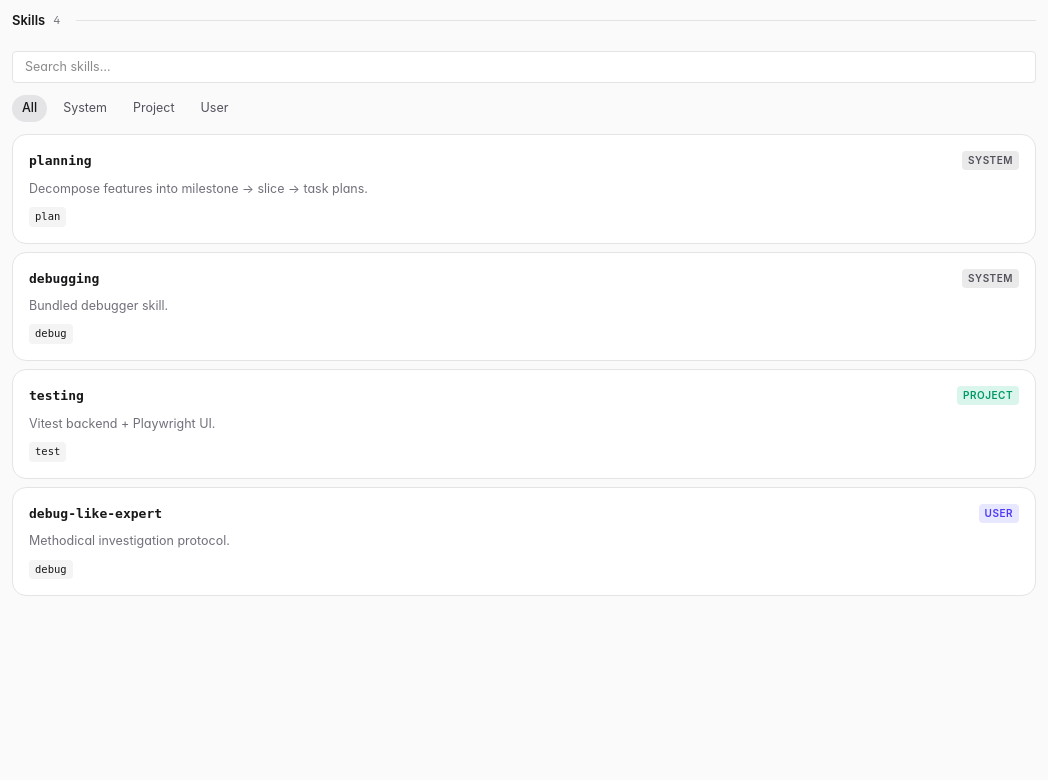
SkillsPane — scope chip filtering › clicking User narrows the list to user-scoped only
Click the button with test id "skills-scope-chip-user" at (215, 109), box [191,95,238,122]
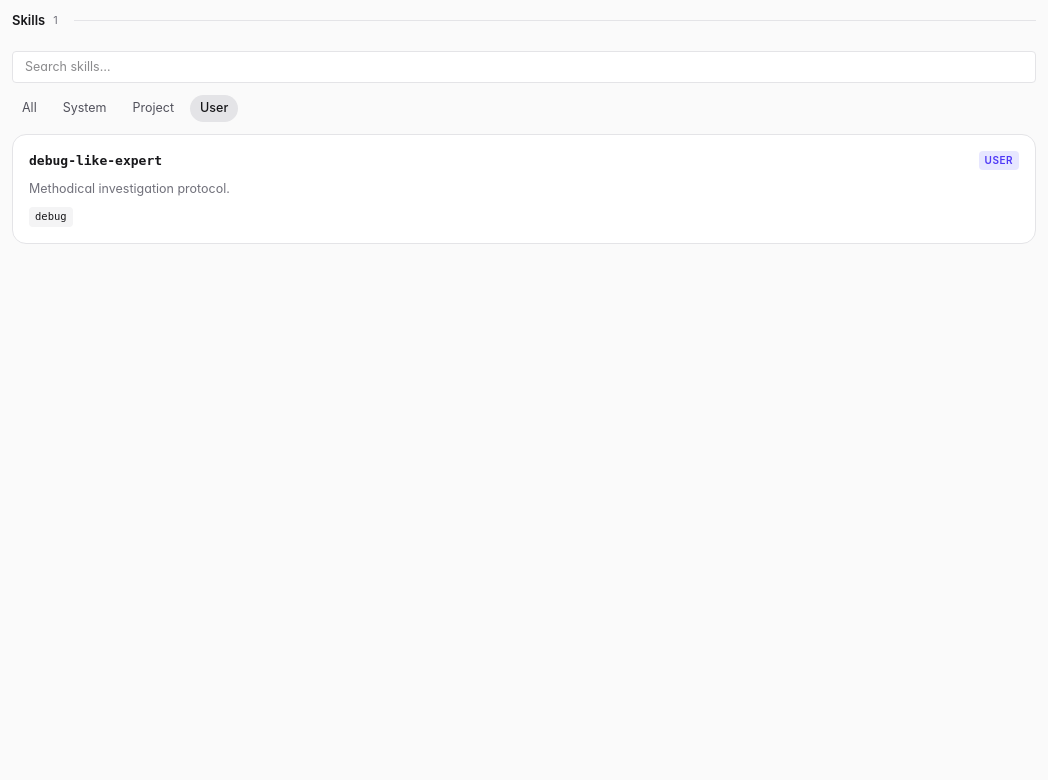
Check: the number of elements with test id "skill-row" is 1, box [29,151,1019,227]
